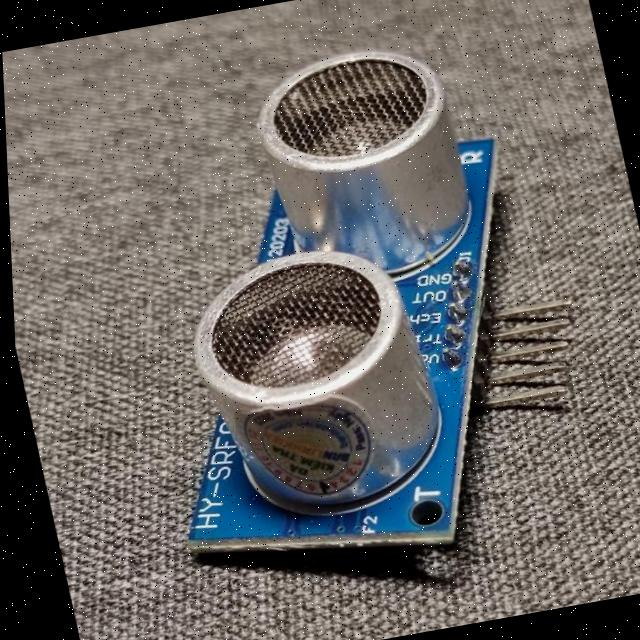Ultrasonic Sensor: (118, 32, 569, 607)
